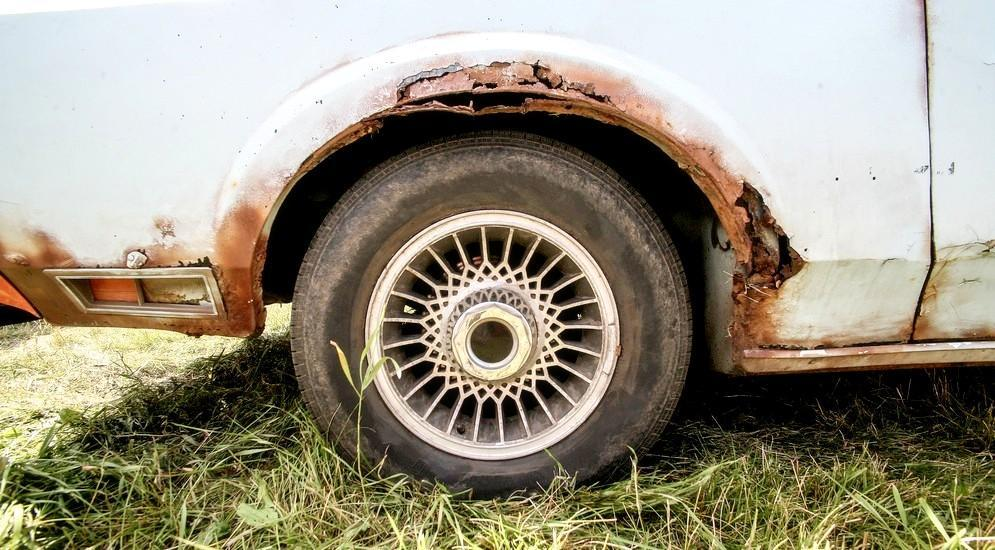corrosion: (370, 62, 674, 154), (716, 152, 802, 346)
